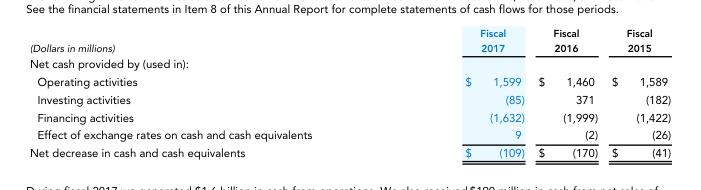table: (28, 28, 670, 158)
table column: (28, 28, 387, 158), (387, 28, 530, 158), (530, 28, 604, 158), (604, 28, 670, 158)
table column header: (28, 28, 670, 56)
table projected row header: (28, 56, 670, 73)
table row: (28, 28, 670, 56), (28, 73, 670, 91), (28, 108, 670, 126), (28, 126, 670, 144), (28, 56, 670, 73), (28, 91, 670, 108), (28, 144, 670, 158)
